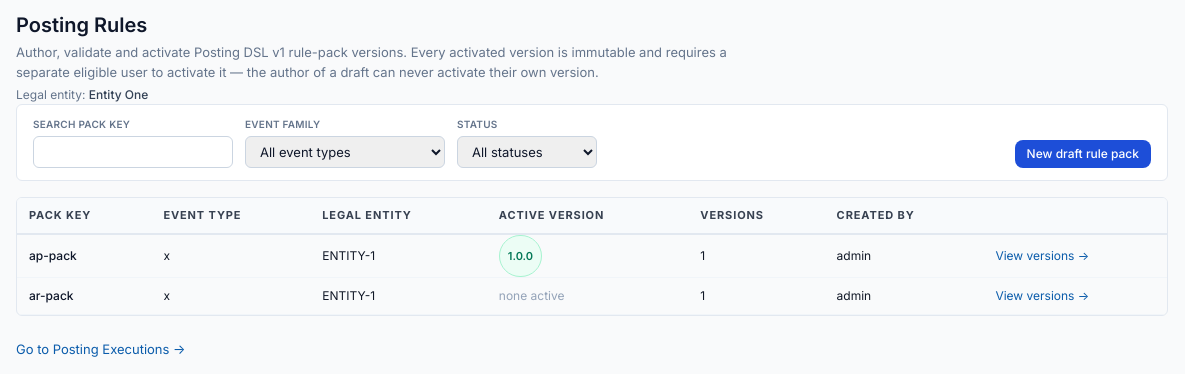
Test: PostingRules screen › filters the pack list by status (both packs already belong to the one scoped legal entity)
expect the element with test id "posting-rules-pack-list" is shown: met, box [16, 197, 1168, 316]
expect the row with test id "posting-rules-pack-ap-pack" is shown: met, box [17, 234, 1167, 278]
Select "ACTIVE" in the dropdown with test id "posting-rules-filter-status" at {"x": 527, "y": 152}, box [457, 136, 597, 168]
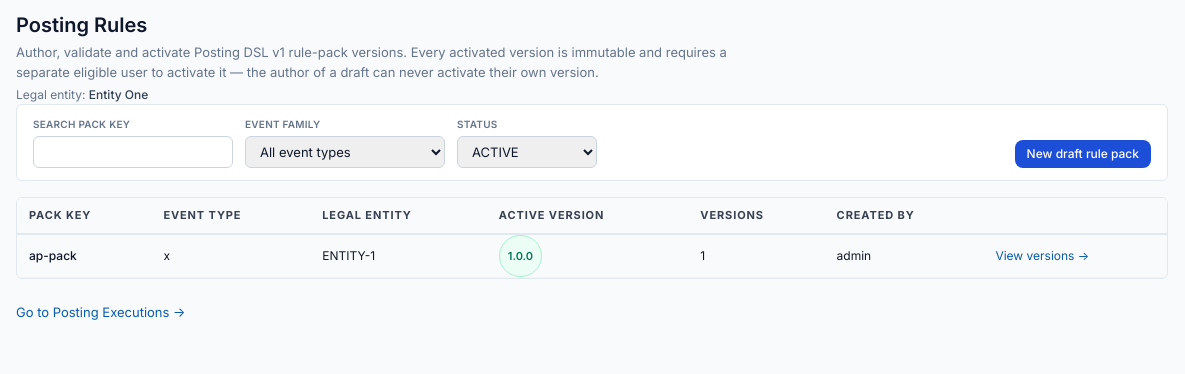
expect the row with test id "posting-rules-pack-ap-pack" is shown: met, box [17, 234, 1167, 278]
expect the row with test id "posting-rules-pack-ar-pack" is gone: met
